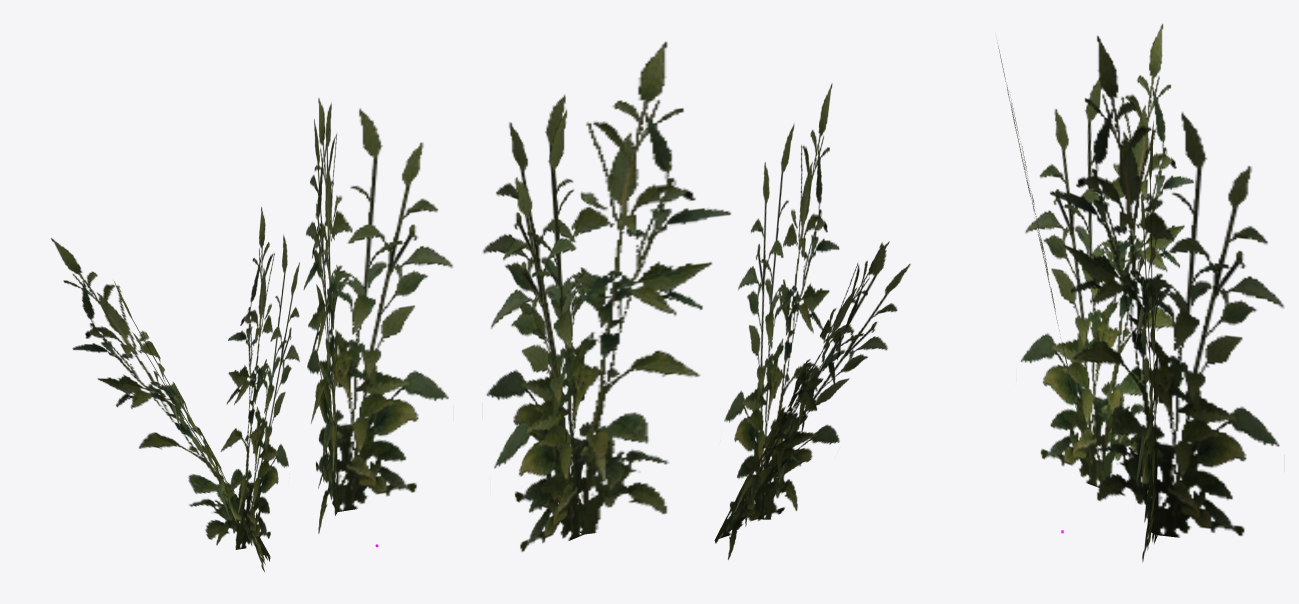
Rendered from mveg_a.glb.
3 renders of one model, left to right at view 1: azimuth 30°, elevation 25°; view 2: azimuth 150°, elevation 25°; view 3: azimuth 270°, elevation 25°, orthographic. The views are drawn at different scales.
Parts seen in each view (by area): view 1: 01 Mesh0; view 2: 01 Mesh0; view 3: 01 Mesh0.
Boxes of the visible parts, bbox=[...] form: 01 Mesh0: bbox=[51, 98, 452, 571]; 01 Mesh0: bbox=[483, 42, 910, 559]; 01 Mesh0: bbox=[997, 24, 1284, 562].
Size of the model in its own units: 3.38 by 3.54 by 1.96.
Materials: 2 (1 with a texture image).
